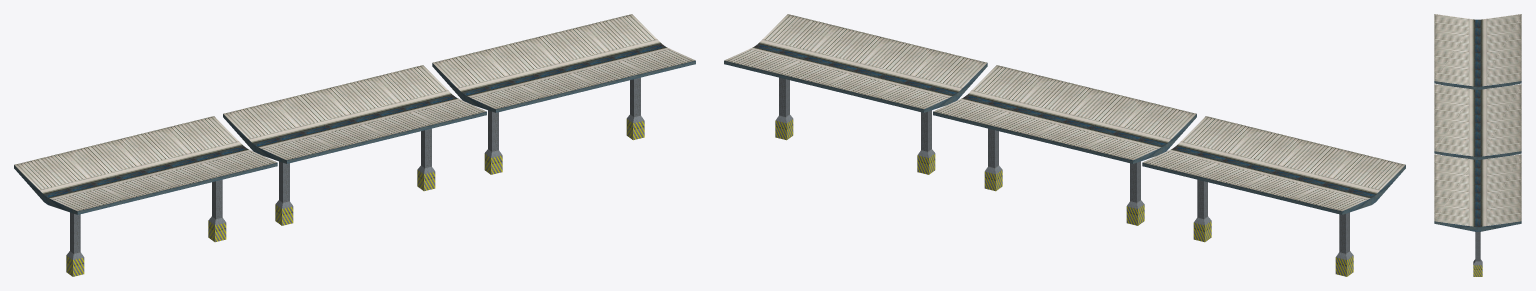
The model's file is imnrmpy2_las2.obj.
The picture shows the model from 3 angles, left to right: view 1: azimuth 30°, elevation 25°; view 2: azimuth 150°, elevation 25°; view 3: azimuth 270°, elevation 25°; orthographic projection. The views are drawn at different scales.
Parts seen in each view (by area): view 1: imnrmpy2_las2; view 2: imnrmpy2_las2; view 3: imnrmpy2_las2.
Part boxes in pixels (x1,y1,x2,y2): imnrmpy2_las2: [14, 14, 695, 276]; imnrmpy2_las2: [724, 14, 1405, 276]; imnrmpy2_las2: [1434, 14, 1521, 276].
Bounding box in the file's own units: 53.99 × 7.69 × 9.64.
